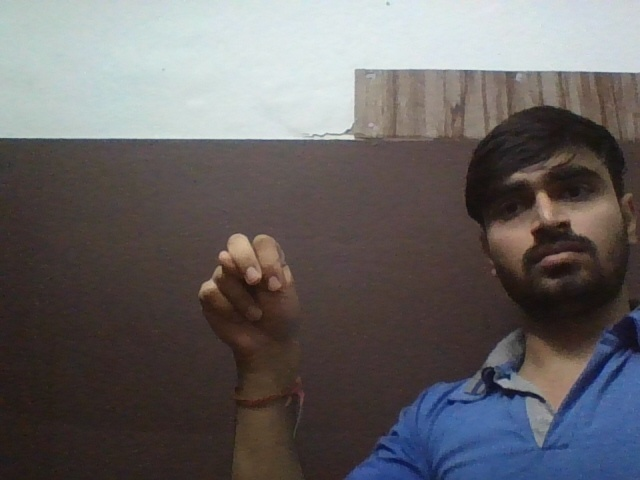M: (186, 224, 322, 354)
